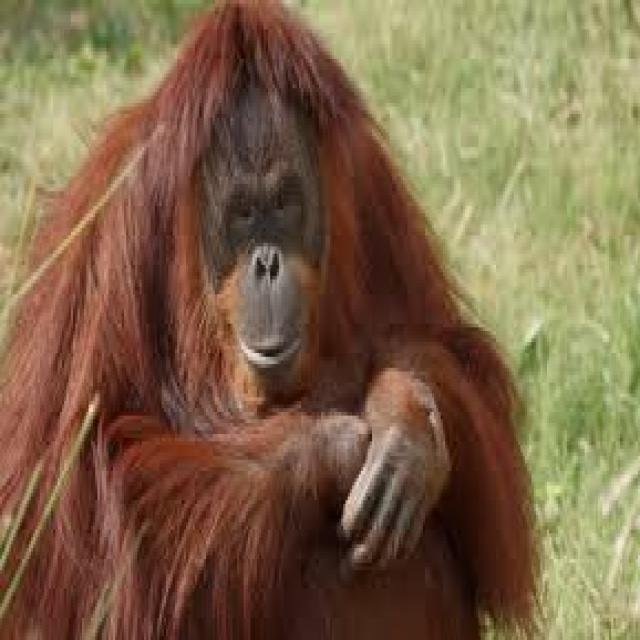Orangutan: (13, 7, 512, 640)
